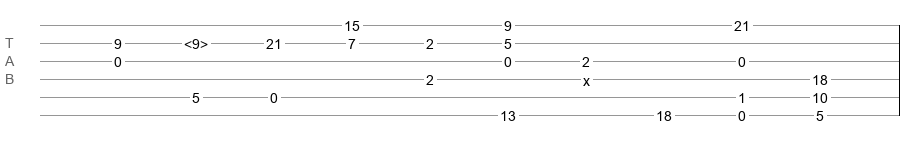0: (114, 54, 122, 64), (270, 90, 278, 100), (504, 54, 512, 64), (738, 108, 746, 118), (738, 54, 746, 64)
1: (738, 90, 746, 100)
10: (812, 90, 828, 100)
13: (500, 108, 516, 118)
15: (344, 18, 360, 28)
18: (656, 108, 672, 118), (812, 72, 828, 82)
2: (426, 36, 434, 46), (426, 72, 434, 82), (582, 54, 590, 64)
21: (266, 36, 282, 46), (734, 18, 750, 28)
5: (192, 90, 200, 100), (504, 36, 512, 46), (816, 108, 824, 118)
7: (348, 36, 356, 46)
9: (114, 36, 122, 46), (504, 18, 512, 28)
harmonic: (184, 36, 208, 46)
x: (583, 73, 590, 81)
